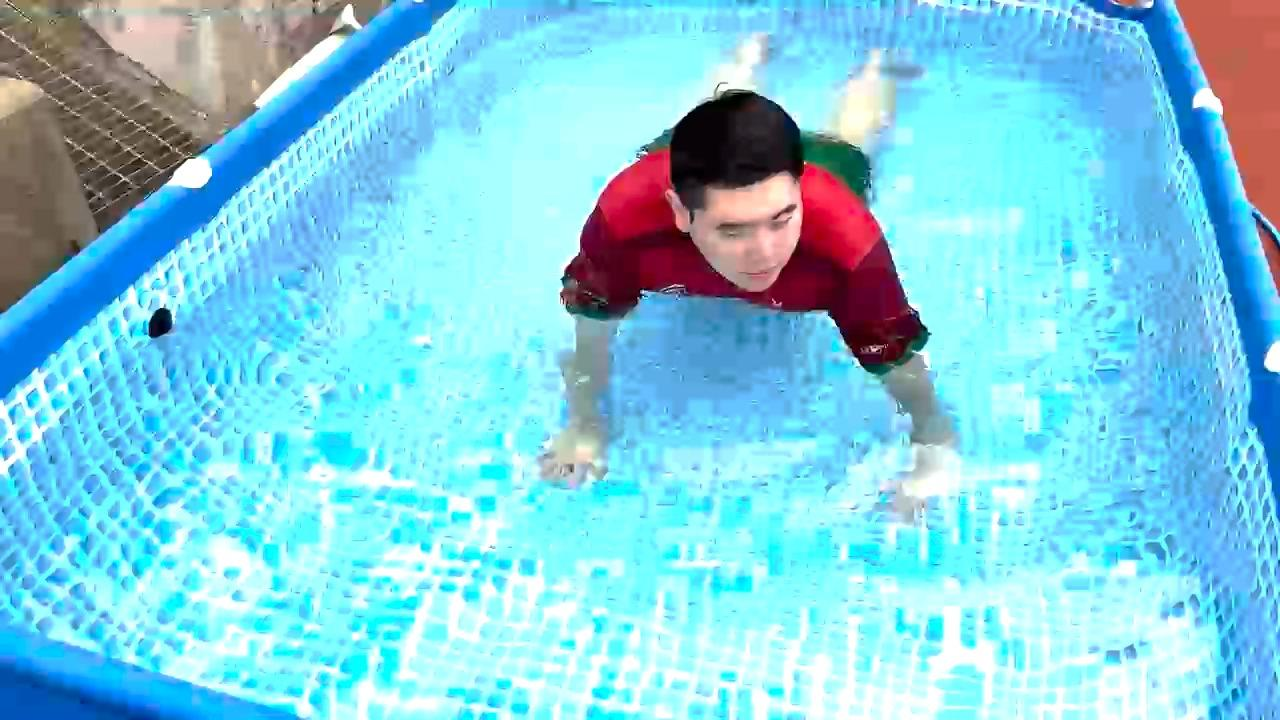Drowning: (488, 0, 988, 544)
